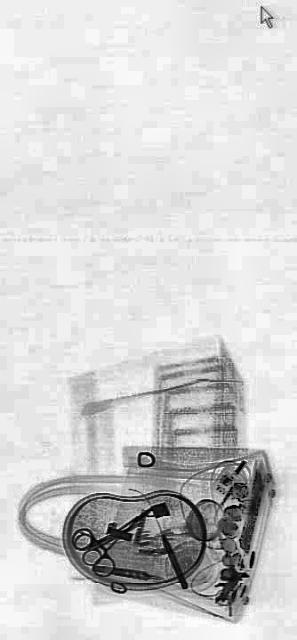Scissors: (70, 483, 158, 593), (71, 505, 131, 573)
